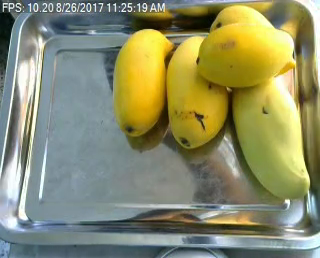Mango: (231, 72, 309, 200), (166, 35, 228, 149), (113, 29, 172, 137), (210, 5, 296, 75), (200, 23, 293, 86)
